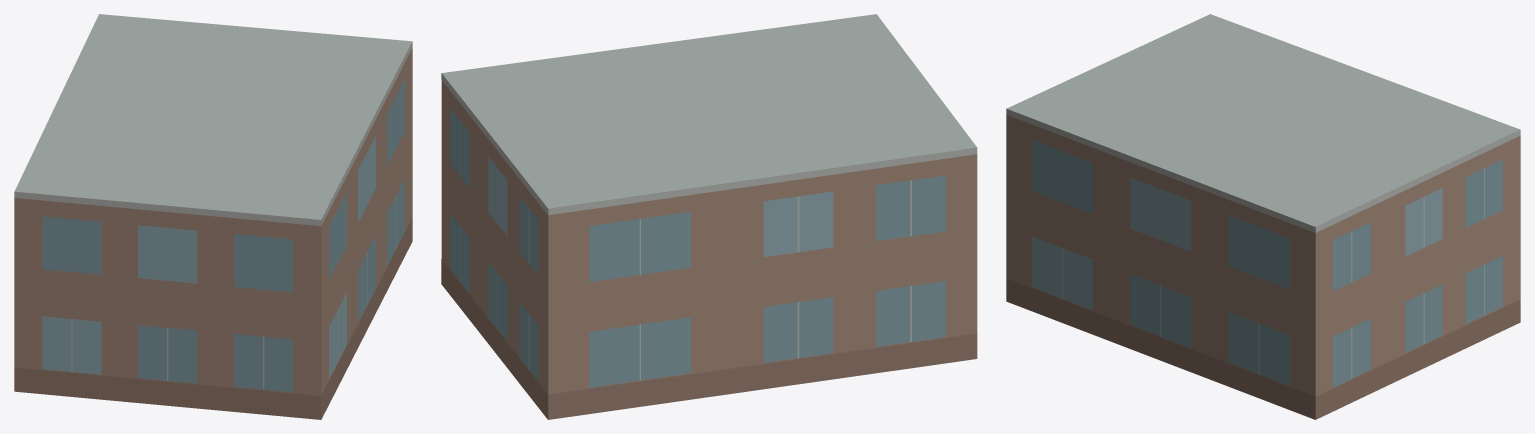
The model's file is survey-upis-32624887.glb.
3 views of the same model, side by side, from view 1: azimuth 30°, elevation 25°; view 2: azimuth 150°, elevation 25°; view 3: azimuth 270°, elevation 25° (orthographic). The views are drawn at different scales.
Visible parts, largest first — view 1: survey-upis-32624887.tmp; view 2: survey-upis-32624887.tmp; view 3: survey-upis-32624887.tmp.
Part boxes in pixels (box(x1,y1,x2,y2)): survey-upis-32624887.tmp: box(14, 14, 412, 419); survey-upis-32624887.tmp: box(441, 14, 977, 419); survey-upis-32624887.tmp: box(1006, 14, 1520, 419).
Bounding box in the file's own units: 18.49 × 7.8 × 18.85.
